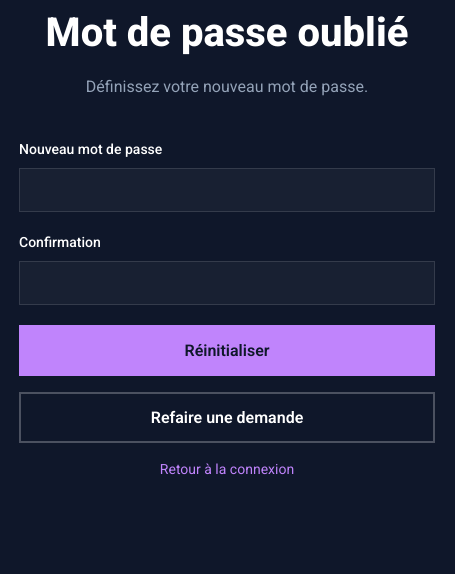
Scenario: ResetPassword › confirme la réinitialisation avec un nouveau mot de passe
Type "nouveaupass123" into the password field labelled "Nouveau mot de passe". click: point(227, 190)
box: [19,168,435,212]
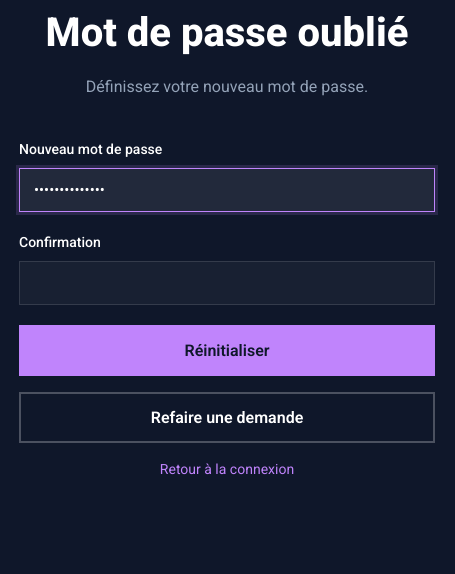
Type "nouveaupass123" into the password field labelled "Confirmation". click: point(227, 283)
box: [19,261,435,305]
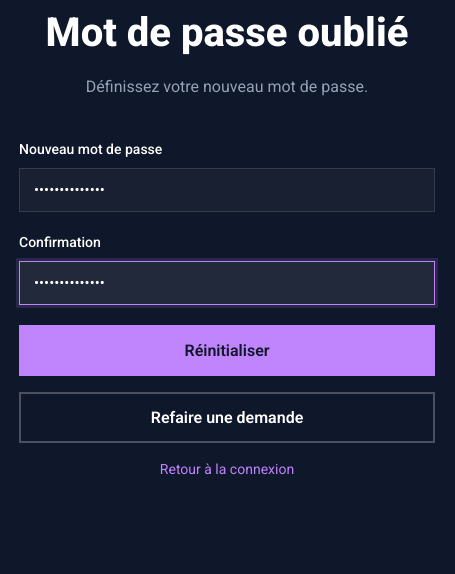
Click the button "Réinitialiser". click: point(227, 350)
box: [19,325,435,376]
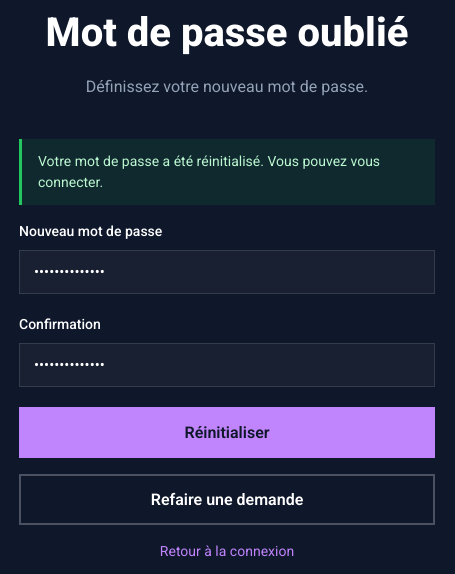
Result: the text "Votre mot de passe a été réinitialisé. Vous pouvez vous connecter." is shown at [19,139,435,205]
